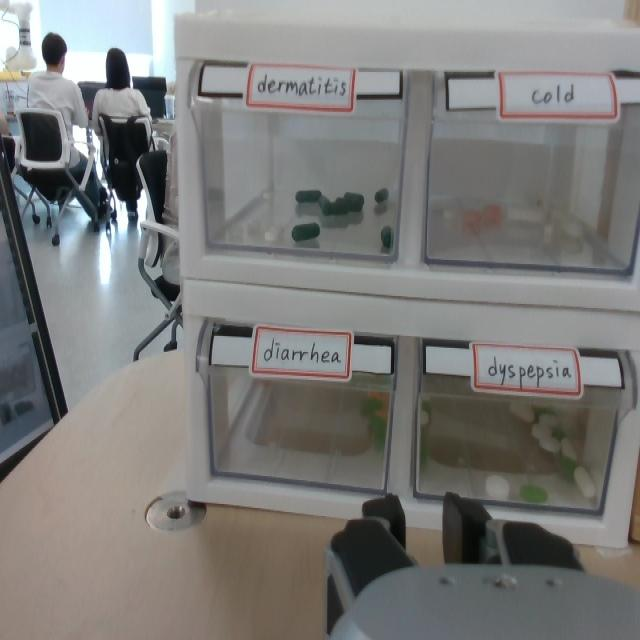text: (482, 352, 576, 388), (256, 66, 348, 102), (260, 333, 344, 367), (530, 77, 582, 108)
